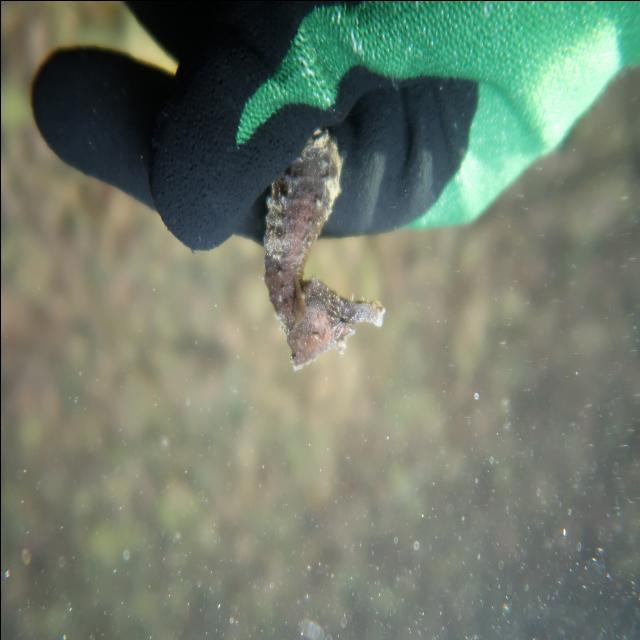Hippo: (280, 272, 388, 374)
